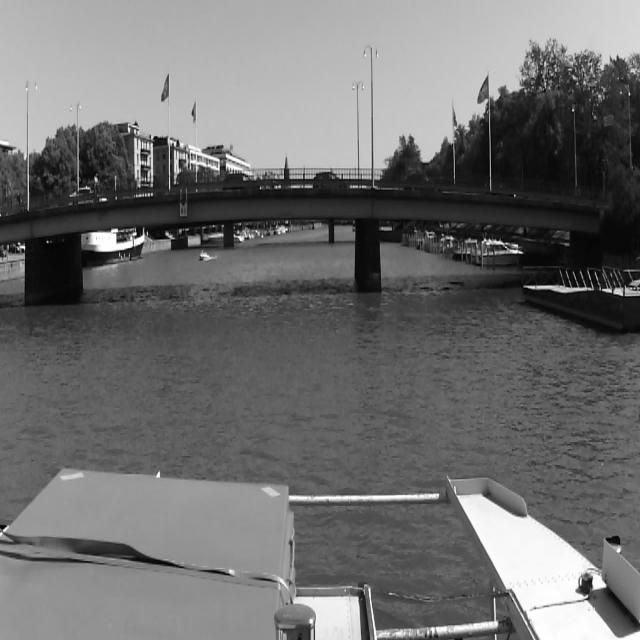ship: (84, 228, 145, 262), (476, 238, 525, 260), (452, 236, 475, 262), (428, 231, 451, 253), (198, 245, 211, 263), (236, 228, 246, 242), (249, 228, 261, 238), (276, 225, 286, 237)
